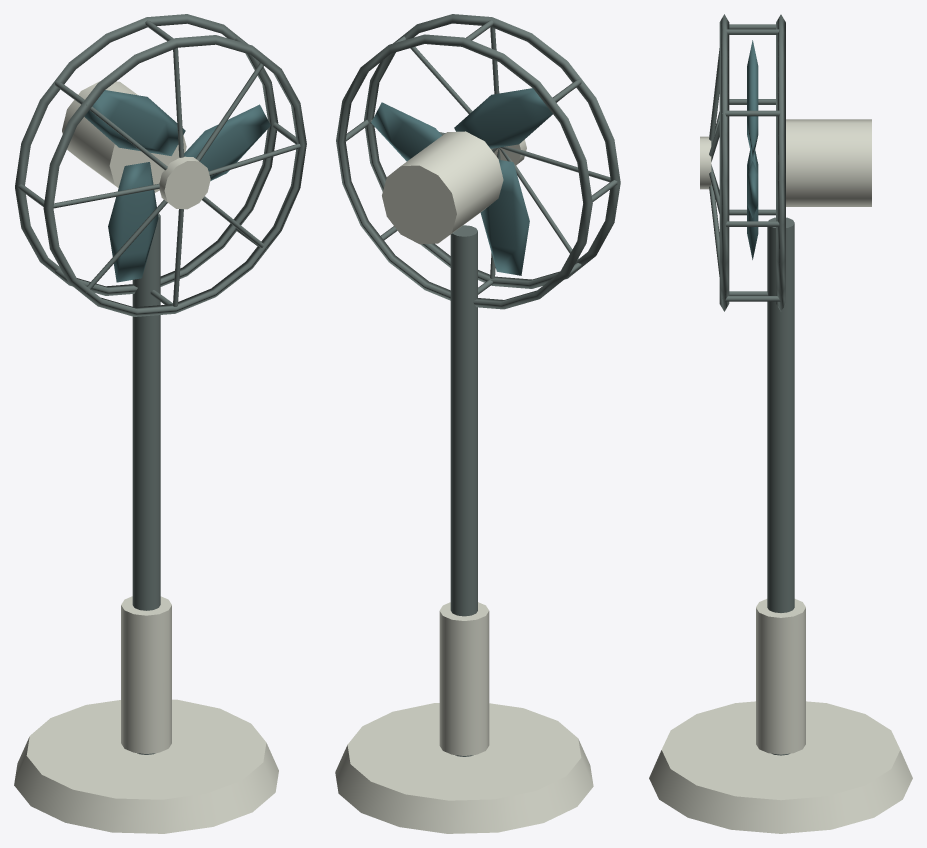
3 views of the same model, side by side, from view 1: azimuth 30°, elevation 25°; view 2: azimuth 150°, elevation 25°; view 3: azimuth 270°, elevation 25° (orthographic). The views are drawn at different scales.
Visible parts, largest first — view 1: part-1, part-2, part-6, part-3, part-5, part-25, part-24, part-4, part-23, part-26, part-10, part-18 (+4 smaller); view 2: part-1, part-2, part-4, part-5, part-3, part-6, part-24, part-25, part-23, part-18, part-16; view 3: part-1, part-2, part-4, part-3, part-6, part-5, part-24, part-26, part-25, part-23.
Part boxes in pixels (left/top/right/bottom): part-1: left=14, top=699, right=278, bottom=833; part-2: left=132, top=213, right=160, bottom=754; part-6: left=43, top=35, right=306, bottom=316; part-3: left=121, top=596, right=171, bottom=753; part-5: left=15, top=14, right=278, bottom=295; part-25: left=108, top=162, right=158, bottom=282; part-24: left=84, top=90, right=185, bottom=155; part-4: left=62, top=81, right=186, bottom=192; part-23: left=184, top=104, right=270, bottom=180; part-26: left=159, top=156, right=210, bottom=209; part-10: left=196, top=61, right=265, bottom=161; part-18: left=86, top=200, right=167, bottom=292; part-1: left=335, top=703, right=593, bottom=833; part-2: left=450, top=225, right=477, bottom=756; part-4: left=382, top=131, right=503, bottom=244; part-5: left=336, top=34, right=592, bottom=309; part-3: left=439, top=602, right=489, bottom=755; part-6: left=364, top=14, right=620, bottom=288; part-24: left=454, top=88, right=552, bottom=148; part-25: left=480, top=160, right=529, bottom=275; part-23: left=371, top=102, right=441, bottom=161; part-18: left=499, top=148, right=578, bottom=259; part-16: left=500, top=147, right=610, bottom=182; part-1: left=649, top=701, right=912, bottom=833; part-2: left=767, top=217, right=794, bottom=755; part-4: left=786, top=119, right=871, bottom=206; part-3: left=756, top=599, right=805, bottom=754; part-6: left=719, top=14, right=729, bottom=311; part-5: left=776, top=14, right=785, bottom=311; part-24: left=747, top=40, right=758, bottom=160; part-26: left=700, top=136, right=711, bottom=189; part-25: left=747, top=150, right=758, bottom=259; part-23: left=747, top=161, right=758, bottom=217.
Bounding box in the file's own units: 0.478 × 1.32 × 0.42.
